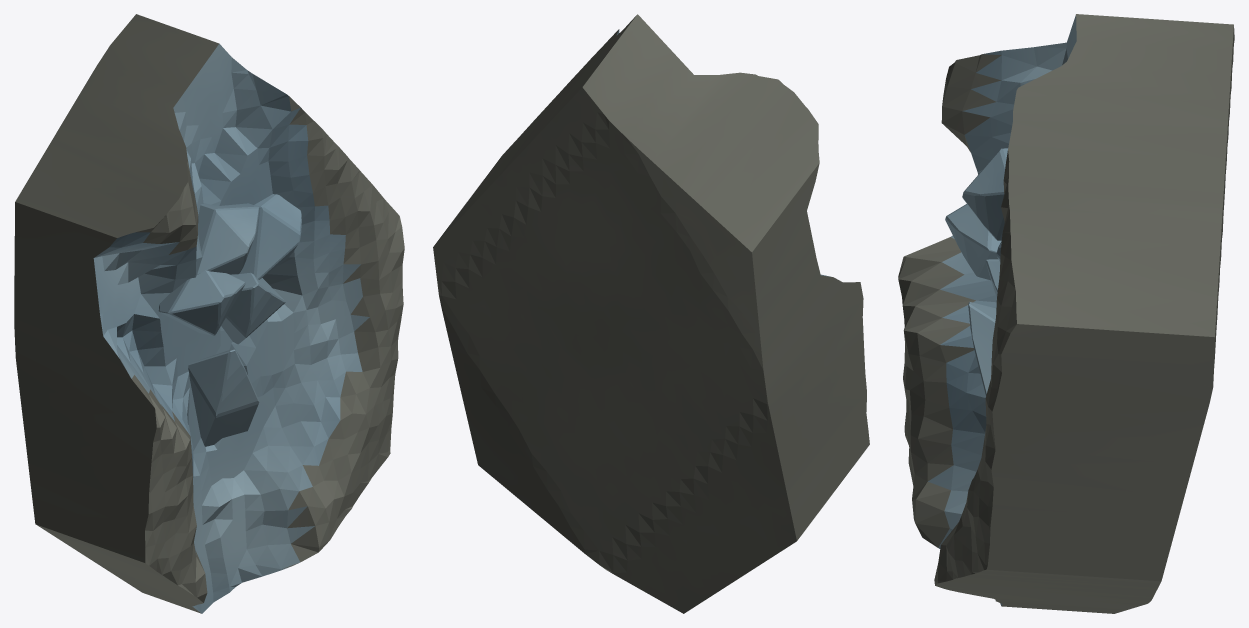
Rendered from corealm_item_kaldite_ore.glb.
The picture shows the model from 3 angles, left to right: view 1: azimuth 30°, elevation 25°; view 2: azimuth 150°, elevation 25°; view 3: azimuth 270°, elevation 25°; orthographic projection. The views are drawn at different scales.
Visible parts, largest first — view 1: corealm_item_kaldite_ore; view 2: corealm_item_kaldite_ore; view 3: corealm_item_kaldite_ore.
Part boxes in pixels (bbox=[...]): corealm_item_kaldite_ore: bbox=[14, 14, 404, 613]; corealm_item_kaldite_ore: bbox=[433, 14, 869, 613]; corealm_item_kaldite_ore: bbox=[898, 14, 1234, 613].
Bounding box in the file's own units: 0.2112 × 0.3413 × 0.1641.
